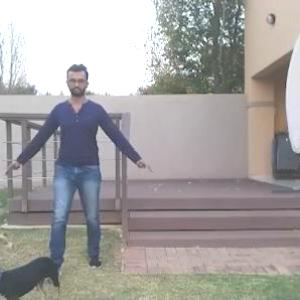land: (25, 71, 137, 265)
